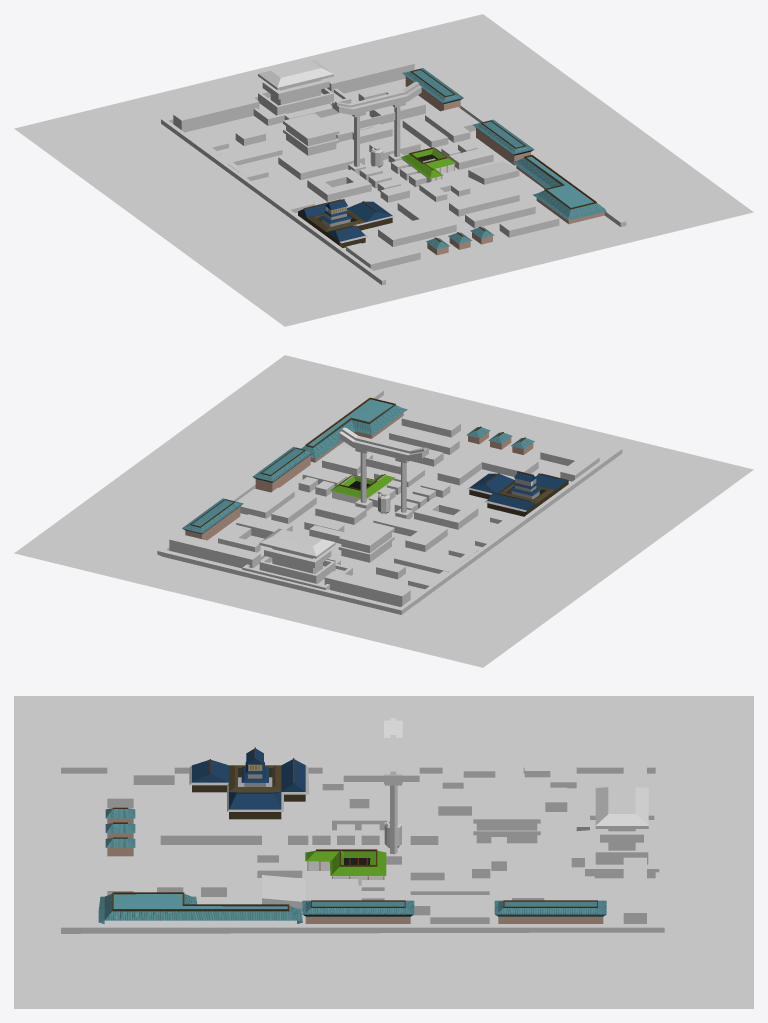
The model's file is city.fbx.
The picture shows the model from 3 angles, top to bottom: view 1: azimuth 30°, elevation 25°; view 2: azimuth 150°, elevation 25°; view 3: azimuth 270°, elevation 25°; orthographic projection. The views are drawn at different scales.
Visible parts, largest first — view 1: Plane.035, Cube, Cube.047, Cube.009, Cube.041, Arc, Cube.035, Cube.007, Cube.005, Cube.001, Cube.013, Cube.025 (+16 smaller); view 2: Plane.035, Cube.009, Cube, Cube.047, Cube.041, Arc, Cube.035, Cube.001, Cube.005, Cube.007, Cube.025, Cube.013 (+13 smaller); view 3: Plane.035, Cube.009, Cube, Cube.047, Cube.041, Cube.035, Cube.005, Cube.025, Cube.014, Cube.013, Plane.014, Cube.028 (+21 smaller).
Part boxes in pixels (x1,y1,x2,y2): Plane.035: (14, 14, 753, 326); Cube: (252, 60, 351, 125); Cube.047: (298, 199, 393, 247); Cube.009: (161, 67, 626, 285); Cube.041: (512, 155, 606, 224); Arc: (332, 81, 421, 174); Cube.035: (378, 197, 456, 246); Cube.007: (173, 95, 259, 132); Cube.005: (283, 113, 339, 155); Cube.001: (326, 57, 414, 93); Cube.013: (278, 150, 364, 179); Cube.025: (473, 119, 534, 165); Plane.035: (14, 355, 753, 667); Cube.009: (157, 389, 622, 614); Cube: (242, 528, 352, 589); Cube.047: (467, 471, 568, 516); Cube.041: (301, 397, 407, 462); Arc: (339, 427, 428, 519); Cube.035: (437, 446, 538, 485); Cube.001: (169, 533, 260, 568); Cube.005: (338, 520, 394, 562); Cube.007: (324, 571, 410, 606); Cube.025: (252, 446, 313, 492); Cube.013: (373, 513, 447, 551); Plane.035: (14, 696, 753, 1008); Cube.009: (61, 765, 664, 933); Cube: (571, 787, 659, 878); Cube.047: (189, 747, 309, 819); Cube.041: (98, 892, 302, 923); Cube.035: (160, 793, 261, 844); Cube.005: (473, 798, 540, 843); Cube.025: (302, 900, 414, 923); Cube.014: (494, 900, 606, 923); Cube.013: (410, 793, 471, 844); Plane.014: (305, 849, 386, 885); Cube.028: (410, 895, 489, 923).
Size of the model in its own units: 8459 by 1325 by 8459.
